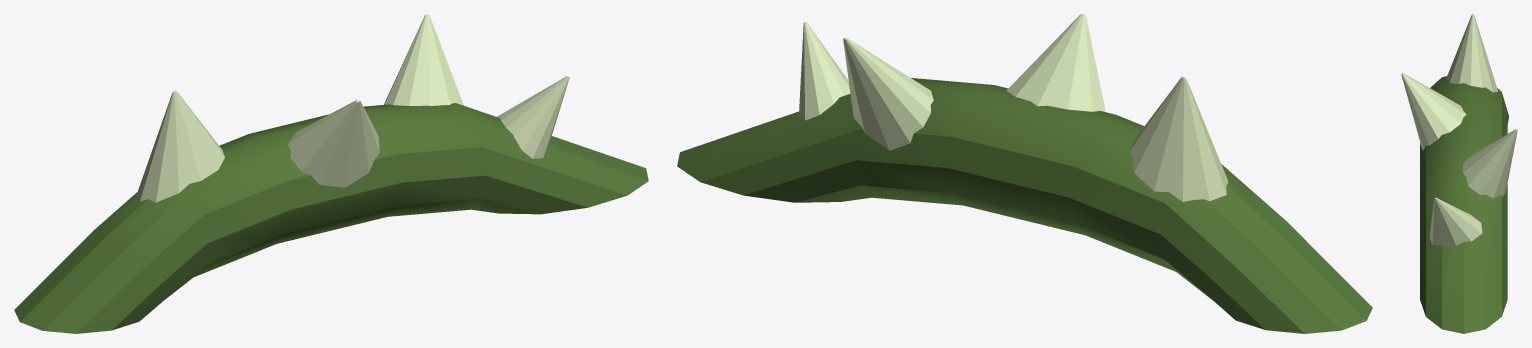
The model's file is model_Spike.fbx.
3 renders of one model, left to right at view 1: azimuth 30°, elevation 25°; view 2: azimuth 150°, elevation 25°; view 3: azimuth 270°, elevation 25°, orthographic. The views are drawn at different scales.
Visible parts, largest first — view 1: pCylinder1, pCone1, pCone2, pCone3, pCone4; view 2: pCylinder1, pCone2, pCone3, pCone1, pCone4; view 3: pCylinder1, pCone1, pCone3, pCone2, pCone4.
Part boxes in pixels (box(x1,y1,x2,y2)): pCylinder1: box(14, 103, 648, 333); pCone1: box(288, 100, 379, 187); pCone2: box(137, 90, 224, 202); pCone3: box(384, 14, 463, 105); pCone4: box(497, 76, 569, 158); pCylinder1: box(677, 78, 1372, 333); pCone2: box(1129, 76, 1228, 201); pCone3: box(843, 37, 933, 150); pCone1: box(1006, 14, 1105, 111); pCone4: box(799, 22, 850, 120); pCylinder1: box(1420, 76, 1508, 333); pCone1: box(1401, 73, 1466, 150); pCone3: box(1462, 129, 1517, 198); pCone2: box(1446, 14, 1497, 92); pCone4: box(1429, 197, 1482, 246).
Size of the model in its own units: 12.74 by 3.77 by 2.65.
